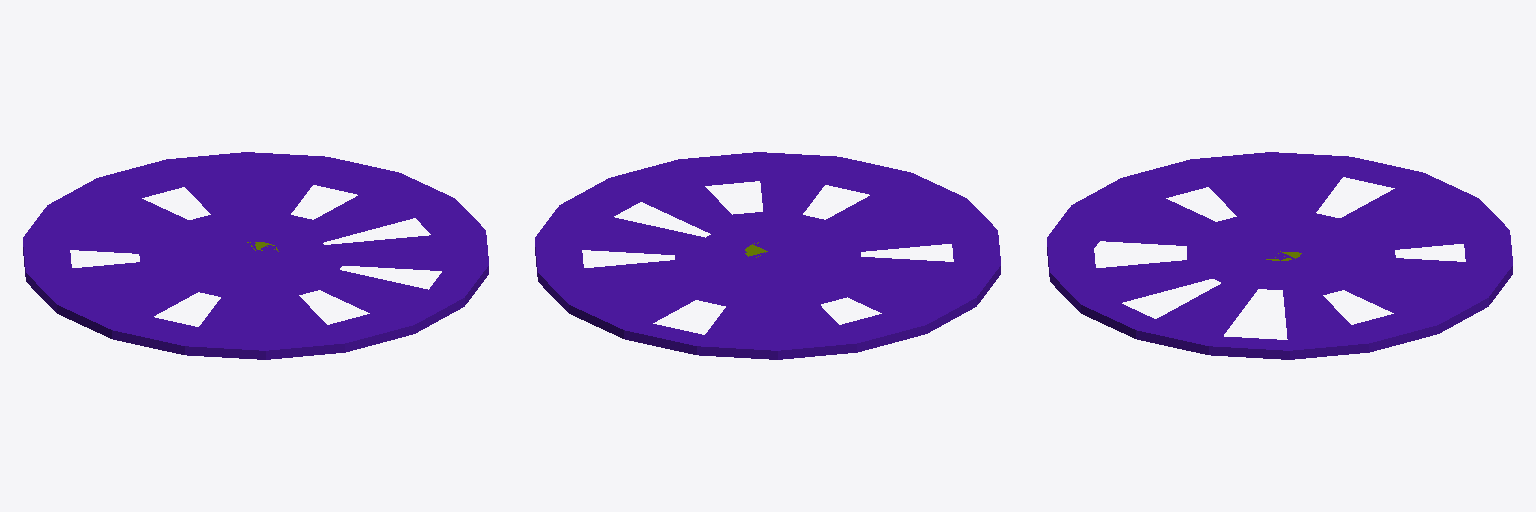
The model's file is copter.obj.
The picture shows the model from 3 angles: view 1: azimuth 30°, elevation 25°; view 2: azimuth 150°, elevation 25°; view 3: azimuth 270°, elevation 25°; orthographic projection.
Parts seen in each view (by area): view 1: Cylinder003; view 2: Cylinder003; view 3: Cylinder003.
Boxes of the visible parts, x1=… form: Cylinder003: x1=23, y1=152, x2=488, y2=359; Cylinder003: x1=535, y1=152, x2=1000, y2=359; Cylinder003: x1=1047, y1=152, x2=1512, y2=359.
Bounding box in the file's own units: 15.44 × 0.3308 × 15.32.